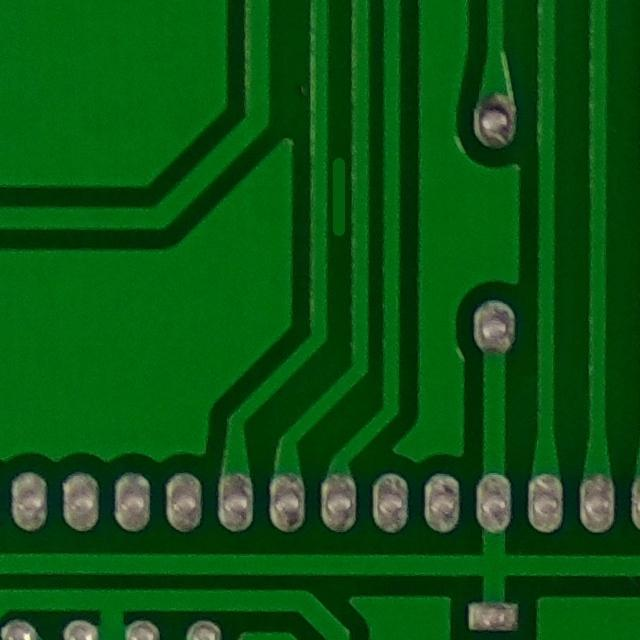spurious_copper: (311, 146, 367, 250)
